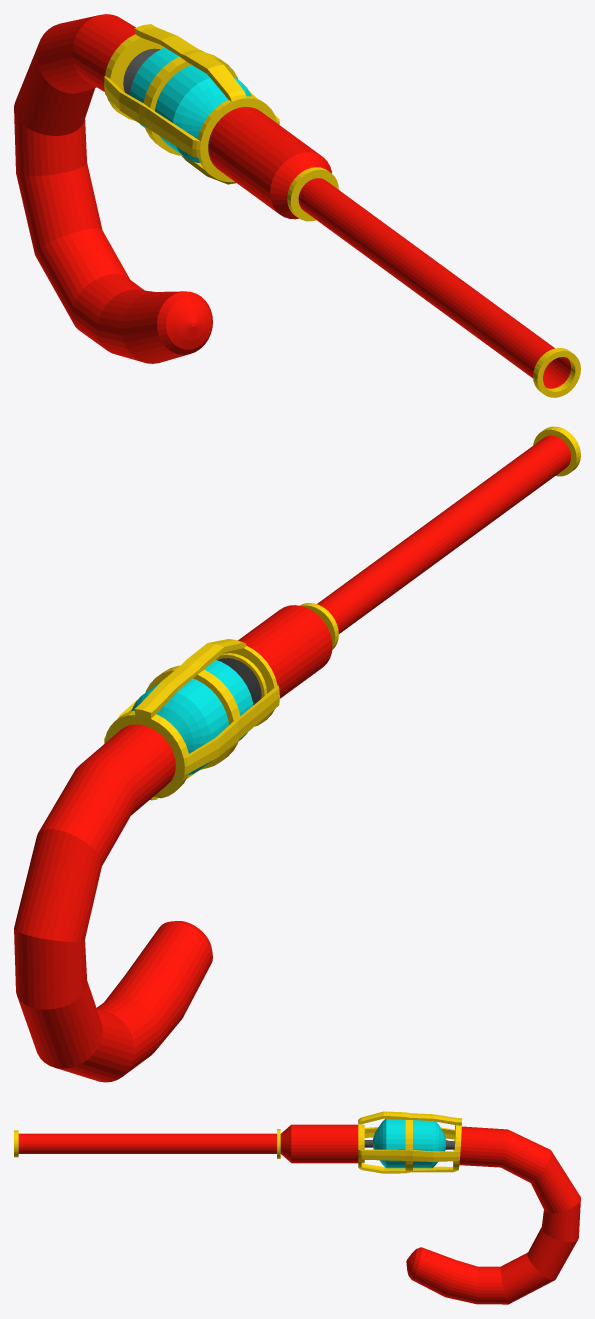
The model's file is arminhaMarionete (1).fbx.
3 renders of one model, top to bottom at view 1: azimuth 30°, elevation 25°; view 2: azimuth 150°, elevation 25°; view 3: azimuth 270°, elevation 25°, orthographic. The views are drawn at different scales.
Visible parts, largest first — view 1: Cylinder.001; view 2: Cylinder.001; view 3: Cylinder.001.
Boxes of the visible parts, box(x1,y1,x2,y2) form: Cylinder.001: box(14, 14, 580, 397); Cylinder.001: box(14, 426, 580, 1082); Cylinder.001: box(14, 1111, 580, 1304).
Size of the model in its own units: 6.15 by 56.1 by 20.69.
